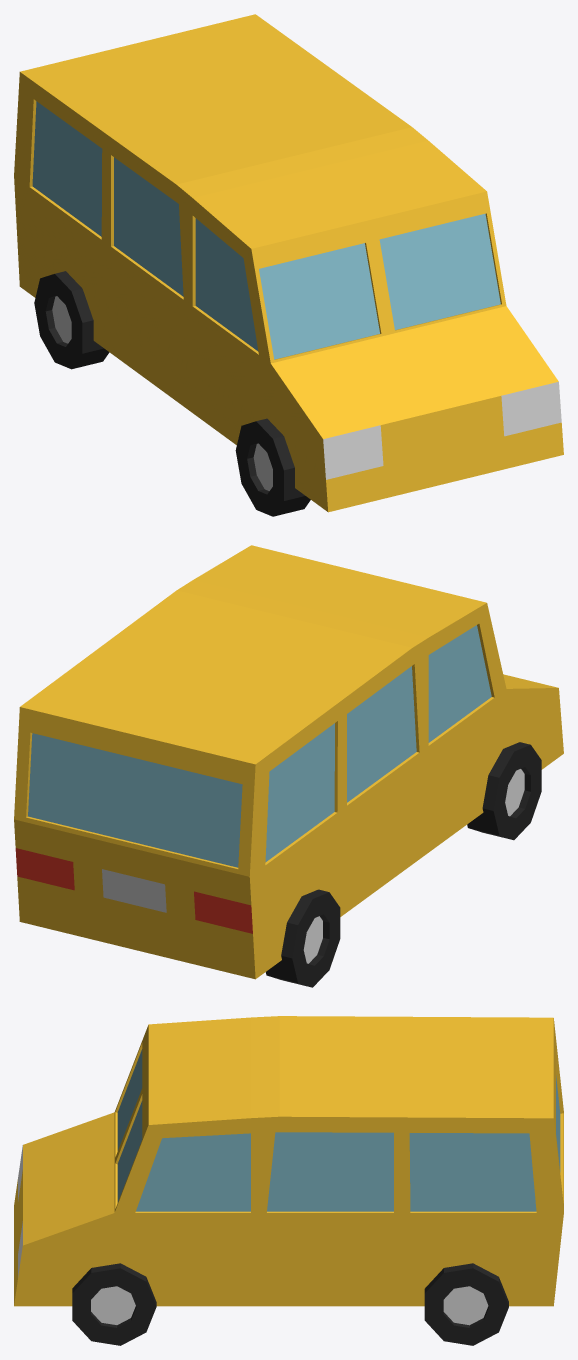
File: pack_cartoon_cars1.fbx
3 renders of one model, top to bottom at view 1: azimuth 30°, elevation 25°; view 2: azimuth 150°, elevation 25°; view 3: azimuth 270°, elevation 25°, orthographic. The views are drawn at different scales.
Visible parts, largest first — view 1: space_wagon; view 2: space_wagon; view 3: space_wagon.
Boxes of the visible parts, bbox=[...] form: space_wagon: bbox=[14, 14, 563, 516]; space_wagon: bbox=[14, 545, 563, 987]; space_wagon: bbox=[14, 1016, 563, 1345].
Size of the model in its own units: 226 by 214 by 476.
